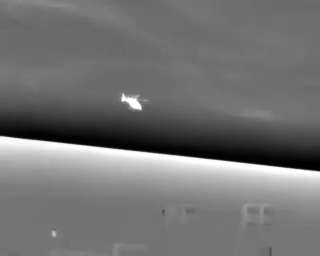HELICOPTER: (117, 88, 154, 118)
